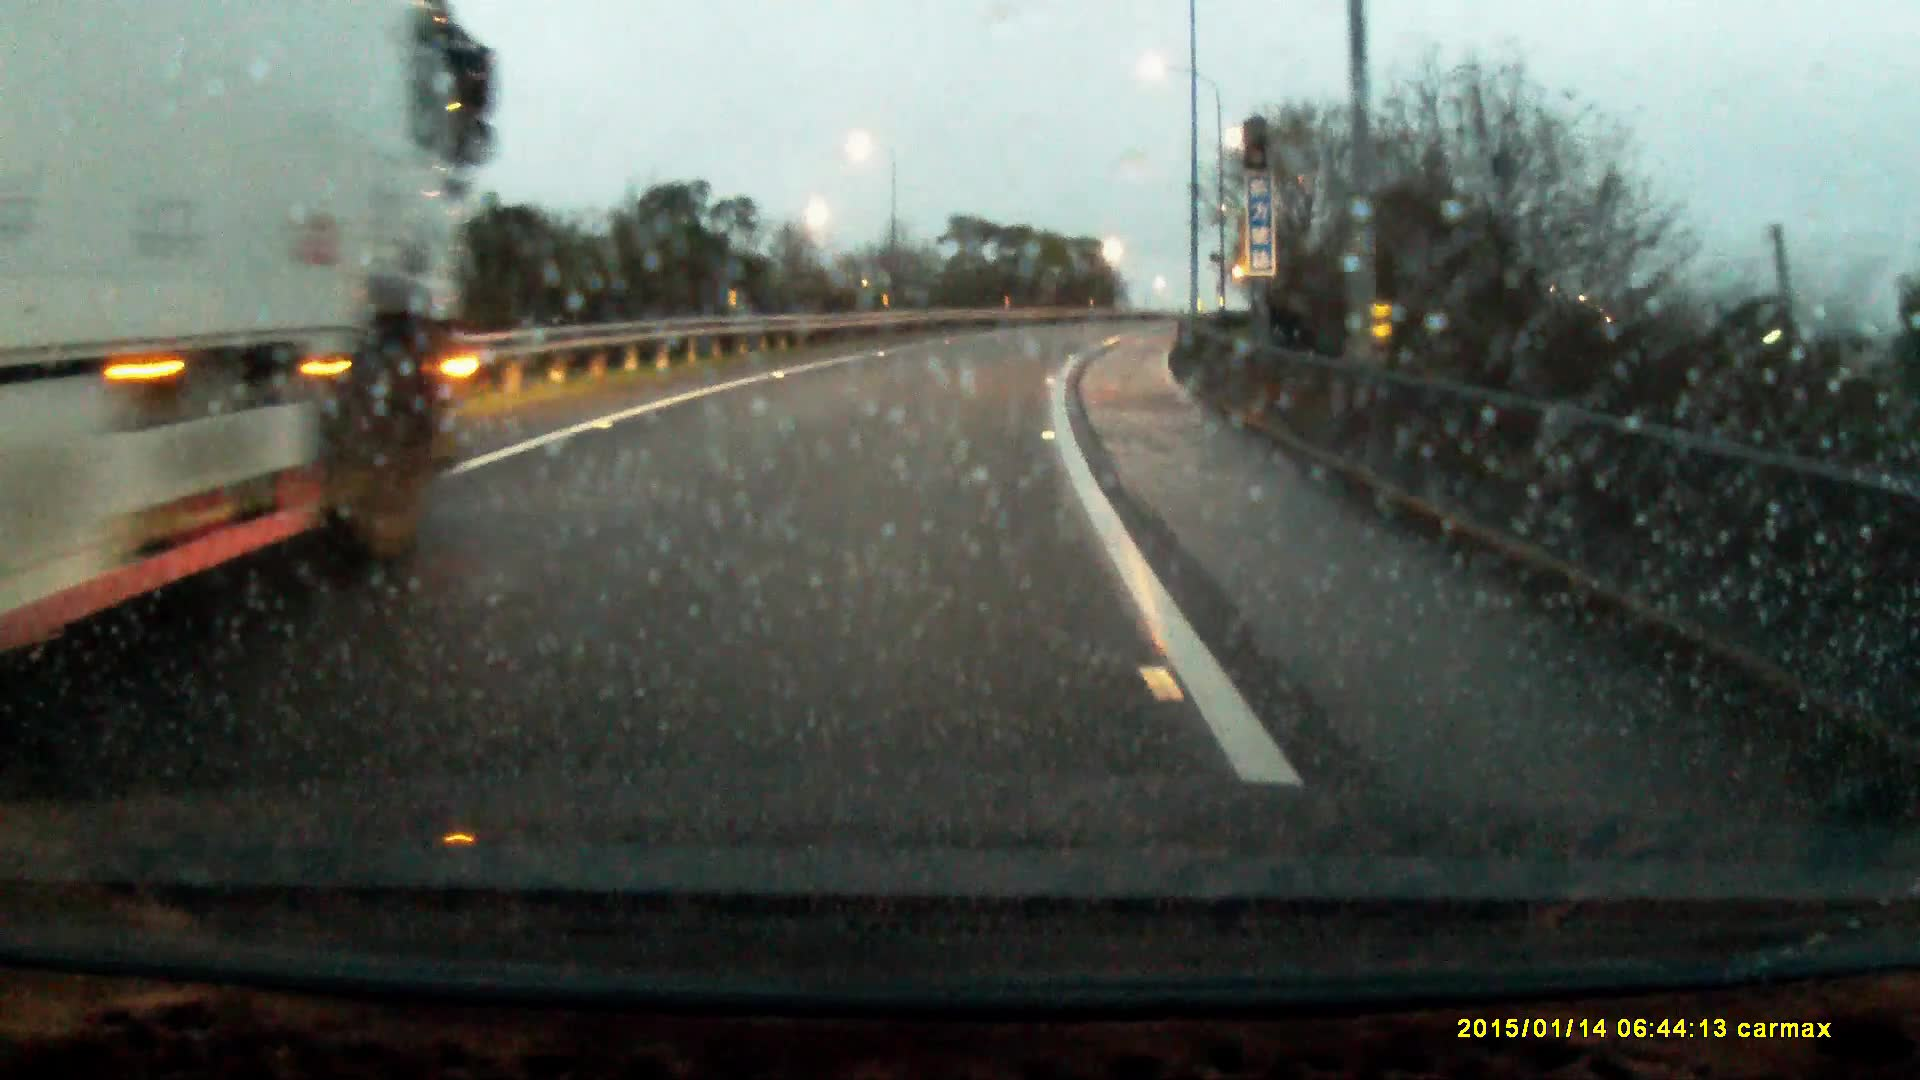vehicle: (1, 1, 498, 647)
